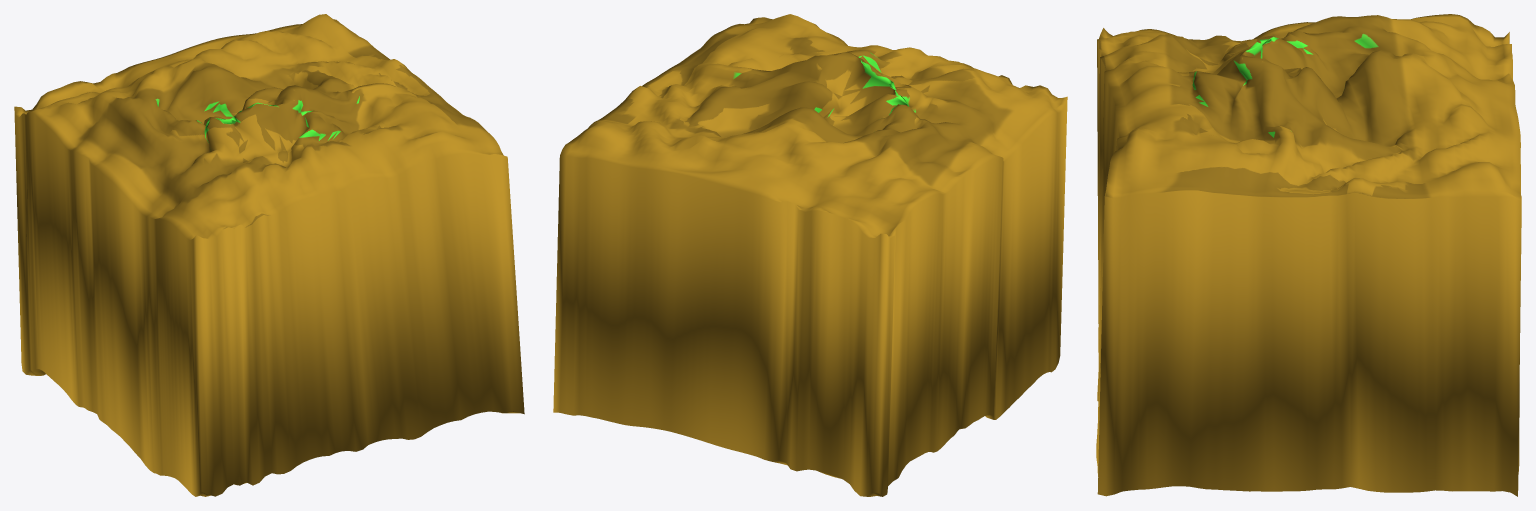
Rendered from Forest_groud1.glb.
The picture shows the model from 3 angles, left to right: view 1: azimuth 30°, elevation 25°; view 2: azimuth 150°, elevation 25°; view 3: azimuth 270°, elevation 25°; orthographic projection. The views are drawn at different scales.
Parts seen in each view (by area): view 1: グリッド; view 2: グリッド; view 3: グリッド.
Part boxes in pixels (x1,y1,x2,y2): グリッド: (14, 14, 524, 496); グリッド: (553, 14, 1067, 496); グリッド: (1096, 14, 1521, 496).
Bounding box in the file's own units: 41.15 × 39.16 × 40.32.
Materials: 1 (1 with a texture image).
